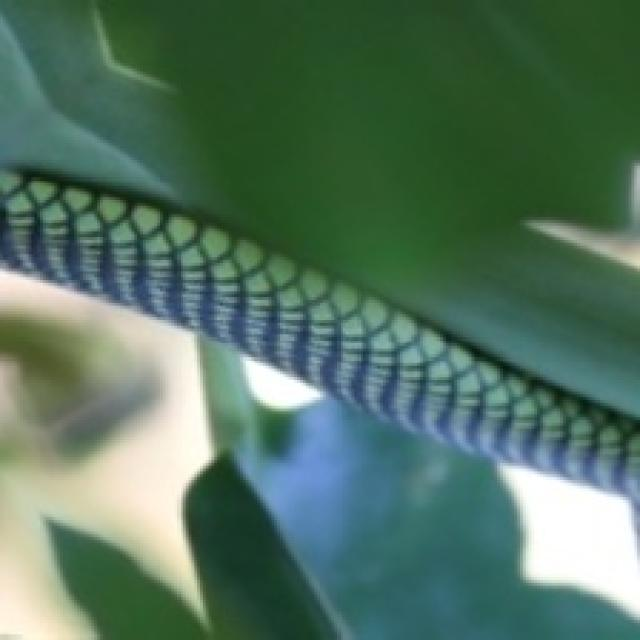paradise tree snake: (0, 271, 637, 637), (0, 171, 637, 489)
